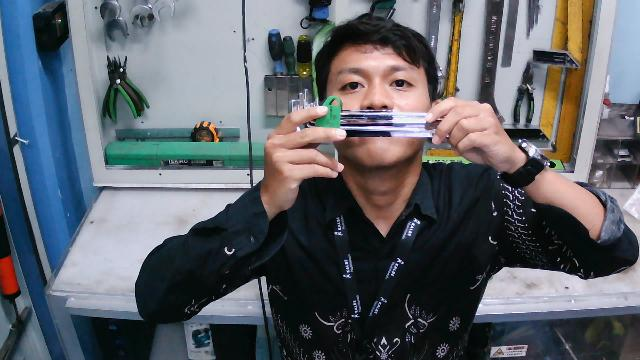kunci_l: (285, 89, 461, 152)
